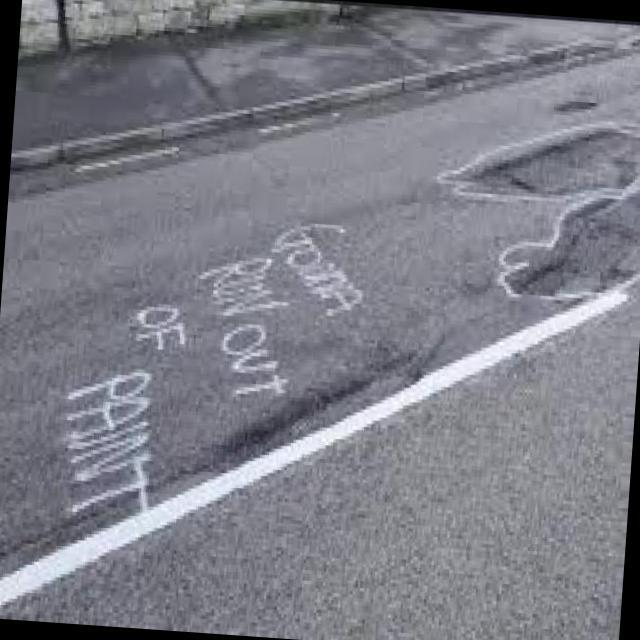Burst: (504, 196, 640, 296), (481, 134, 632, 195)
